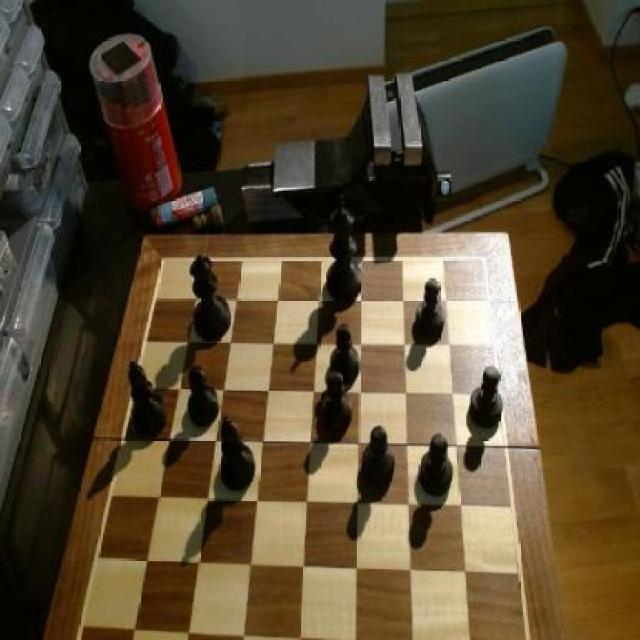bishop: (126, 358, 171, 440), (215, 414, 258, 496)
black-bishop: (322, 197, 362, 308)
black-knight: (418, 432, 456, 502), (468, 366, 504, 434), (360, 425, 396, 492), (184, 366, 220, 429), (414, 278, 449, 341), (328, 323, 360, 385), (323, 368, 354, 432)
black-pawn: (186, 253, 230, 344)
